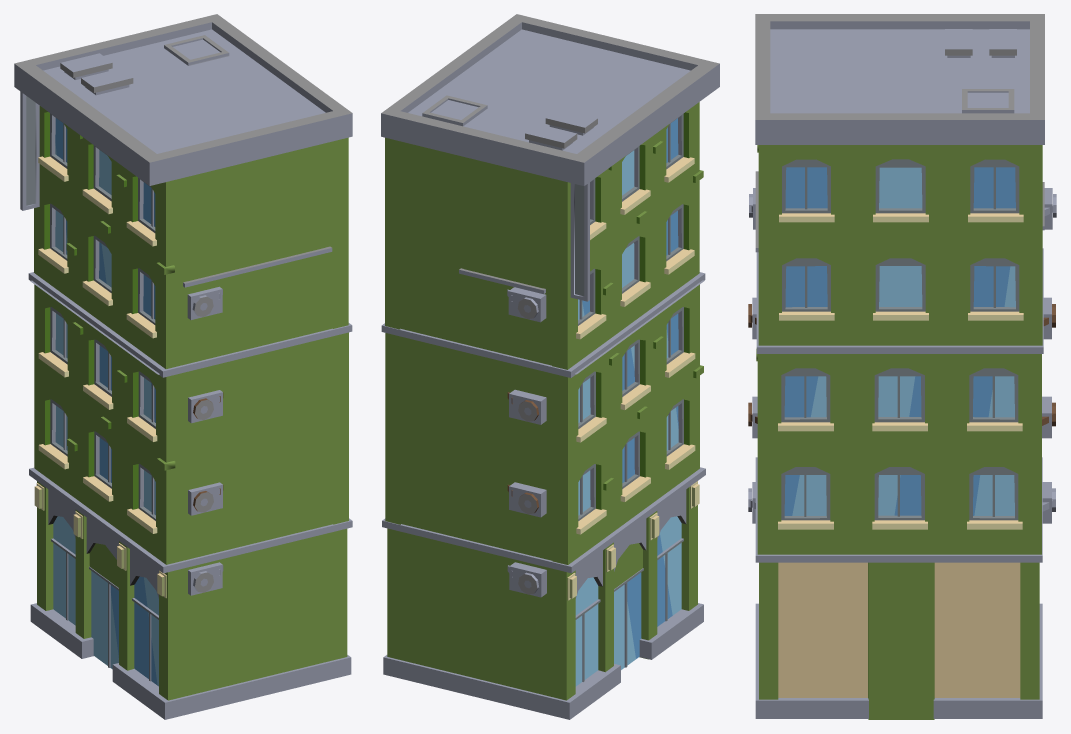
The model's file is putong_zhongxing14.fbx.
The picture shows the model from 3 angles, left to right: view 1: azimuth 30°, elevation 25°; view 2: azimuth 150°, elevation 25°; view 3: azimuth 270°, elevation 25°; orthographic projection. The views are drawn at different scales.
Visible parts, largest first — view 1: putong_zhongxing14; view 2: putong_zhongxing14; view 3: putong_zhongxing14.
Part boxes in pixels (<box>): putong_zhongxing14: <box>14,14,352,719</box>; putong_zhongxing14: <box>381,14,719,719</box>; putong_zhongxing14: <box>748,14,1056,719</box>.
Size of the model in its own units: 316 by 386 by 835.
